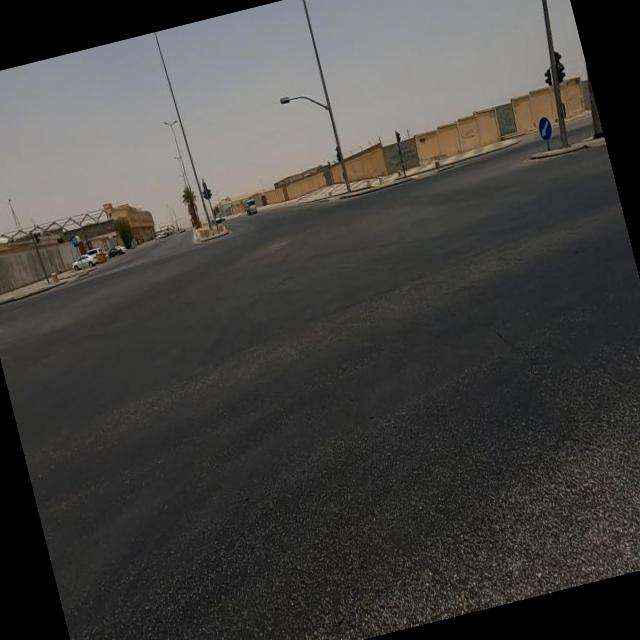debris: (356, 116, 448, 198), (444, 95, 498, 169)
